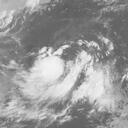cyclone: (28, 36, 109, 105)
